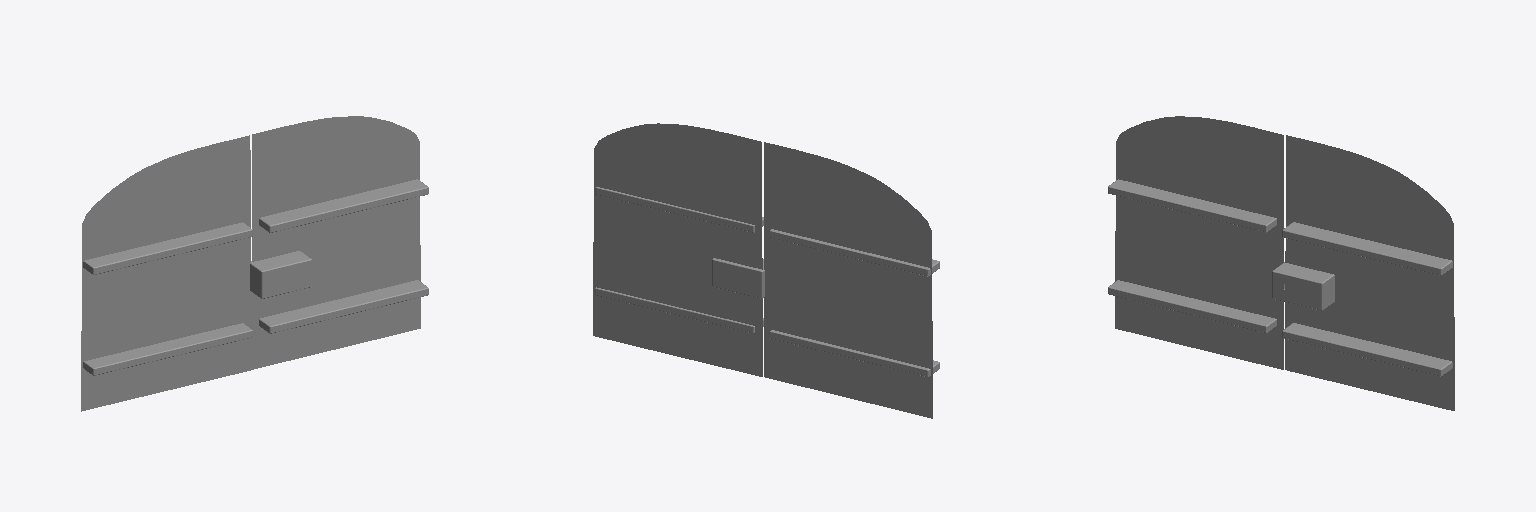
File: door.obj
3 views of the same model, side by side, from view 1: azimuth 30°, elevation 25°; view 2: azimuth 150°, elevation 25°; view 3: azimuth 330°, elevation 25° (orthographic).
Parts seen in each view (by area): view 1: Door_door_2_Estrusione_NURBS2_Tappo_13, Door_door1_Nullo1_Estrusione_NURBS_Tappo_2, Door_door1_Nullo1_Cubo_2, Door_door1_Nullo1_Cubo_11, Door_door_2_Cubo_29, Door_door_2_Cubo_1, Door_door1_Booleana_Cubo_37; view 2: Door_door_2_Estrusione_NURBS2_Tappo_13, Door_door1_Nullo1_Estrusione_NURBS_Tappo_2, Door_door_2_Cubo_1, Door_door1_Booleana_Cubo_37, Door_door_2_Cubo_29, Door_door1_Nullo1_Cubo_11, Door_door1_Nullo1_Cubo_2; view 3: Door_door_2_Estrusione_NURBS2_Tappo_13, Door_door1_Nullo1_Estrusione_NURBS_Tappo_2, Door_door1_Nullo1_Cubo_2, Door_door1_Nullo1_Cubo_11, Door_door_2_Cubo_1, Door_door_2_Cubo_29, Door_door1_Booleana_Cubo_37.
Part boxes in pixels (bbox=[...]): Door_door_2_Estrusione_NURBS2_Tappo_13: bbox=[81, 135, 250, 411]; Door_door1_Nullo1_Estrusione_NURBS_Tappo_2: bbox=[251, 116, 420, 369]; Door_door1_Nullo1_Cubo_2: bbox=[259, 280, 428, 333]; Door_door1_Nullo1_Cubo_11: bbox=[259, 179, 428, 232]; Door_door_2_Cubo_29: bbox=[83, 323, 252, 375]; Door_door_2_Cubo_1: bbox=[83, 222, 252, 274]; Door_door1_Booleana_Cubo_37: bbox=[250, 251, 311, 298]; Door_door_2_Estrusione_NURBS2_Tappo_13: bbox=[764, 142, 932, 418]; Door_door1_Nullo1_Estrusione_NURBS_Tappo_2: bbox=[593, 123, 762, 376]; Door_door_2_Cubo_1: bbox=[770, 229, 939, 276]; Door_door1_Booleana_Cubo_37: bbox=[712, 258, 764, 298]; Door_door_2_Cubo_29: bbox=[770, 330, 939, 376]; Door_door1_Nullo1_Cubo_11: bbox=[595, 187, 763, 232]; Door_door1_Nullo1_Cubo_2: bbox=[595, 287, 763, 333]; Door_door_2_Estrusione_NURBS2_Tappo_13: bbox=[1115, 116, 1283, 369]; Door_door1_Nullo1_Estrusione_NURBS_Tappo_2: bbox=[1285, 135, 1454, 410]; Door_door1_Nullo1_Cubo_2: bbox=[1282, 323, 1452, 376]; Door_door1_Nullo1_Cubo_11: bbox=[1282, 222, 1452, 275]; Door_door_2_Cubo_1: bbox=[1108, 179, 1276, 232]; Door_door_2_Cubo_29: bbox=[1108, 280, 1276, 332]; Door_door1_Booleana_Cubo_37: bbox=[1272, 262, 1334, 310].
Size of the model in its own units: 3.94 by 2.61 by 0.2805.